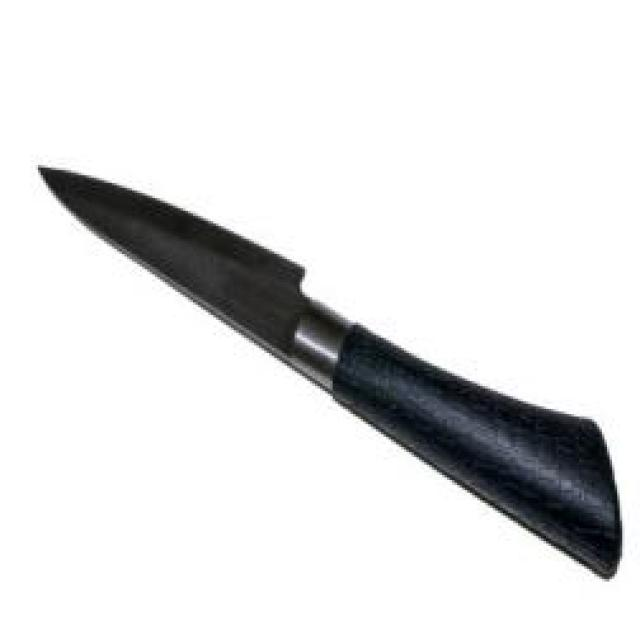knife: (38, 163, 626, 582)
